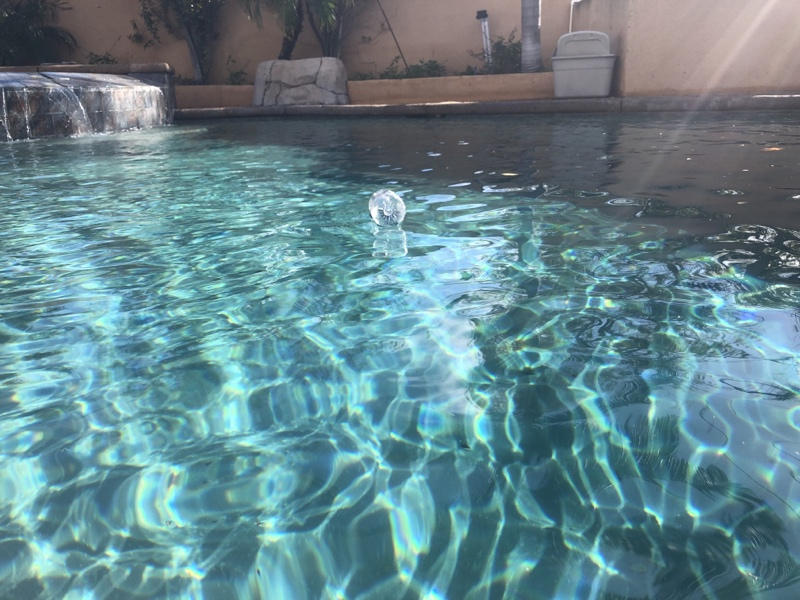Plastic Bottle: (368, 187, 407, 228)
